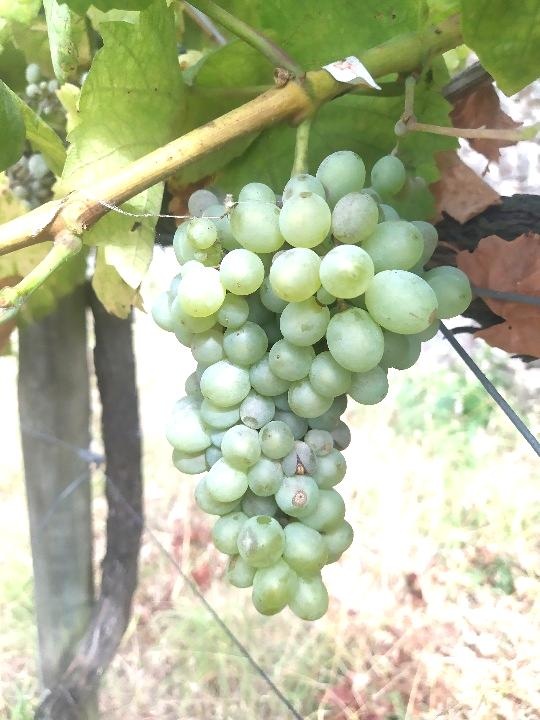grape: (146, 143, 475, 625)
